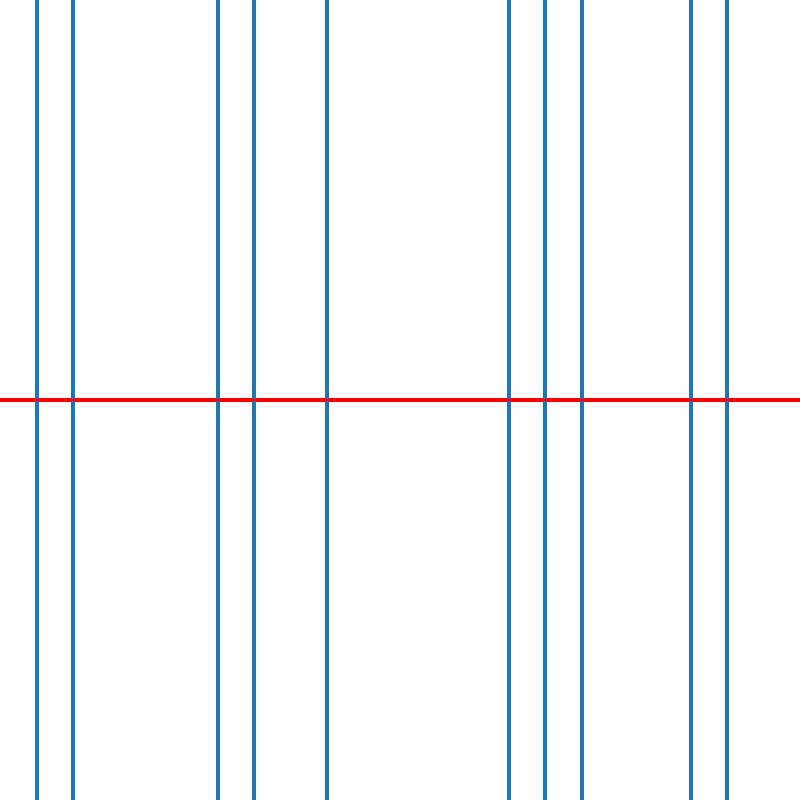root: (32, 396, 40, 404), (250, 396, 258, 404), (541, 396, 549, 404), (505, 396, 512, 404), (214, 396, 221, 404), (323, 396, 330, 404), (578, 396, 585, 404), (69, 396, 76, 404), (723, 396, 730, 404), (687, 396, 694, 404)
